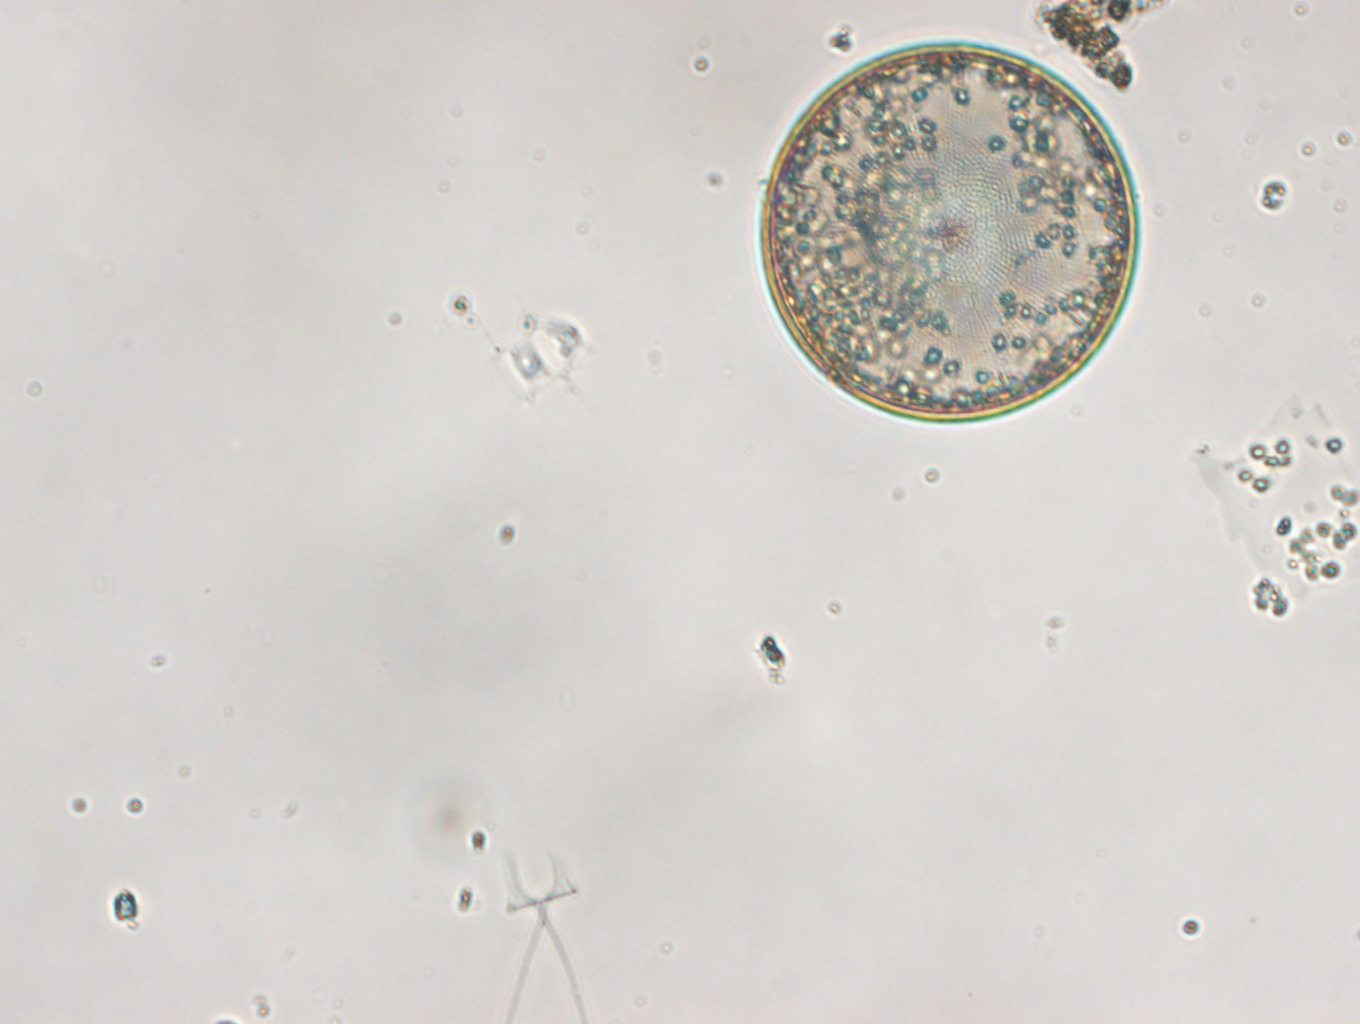chaetoceros: (472, 285, 597, 425)
coscinodiscus: (758, 41, 1141, 422)
